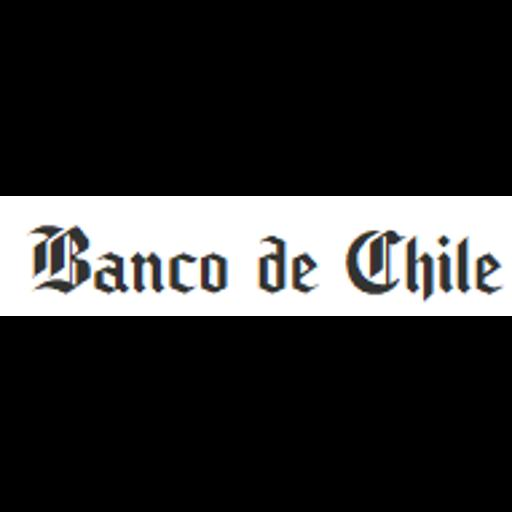Banco de Chile: (0, 196, 512, 316)
